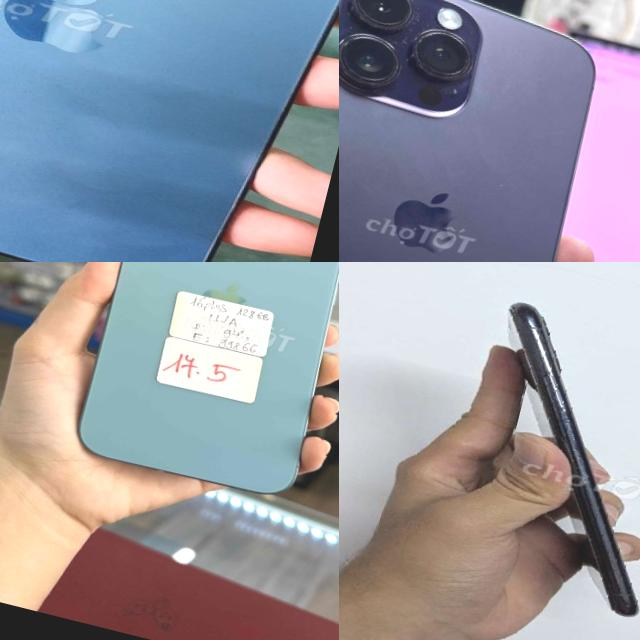gen_11: (508, 302, 637, 615)
gen_12_13: (0, 0, 339, 262)
gen_14: (339, 0, 636, 262)
gen_16: (79, 262, 339, 492)
